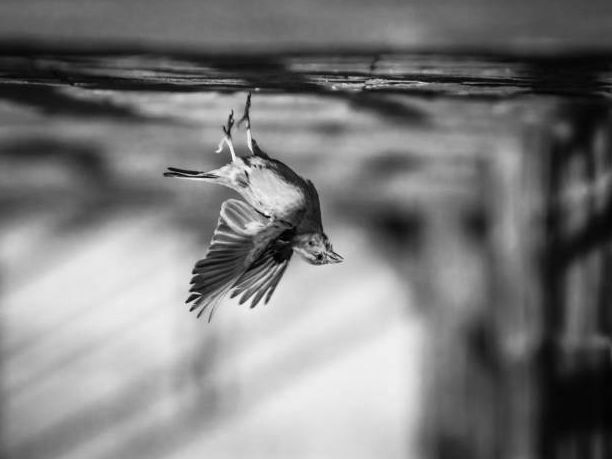Bird: (156, 89, 349, 334)
